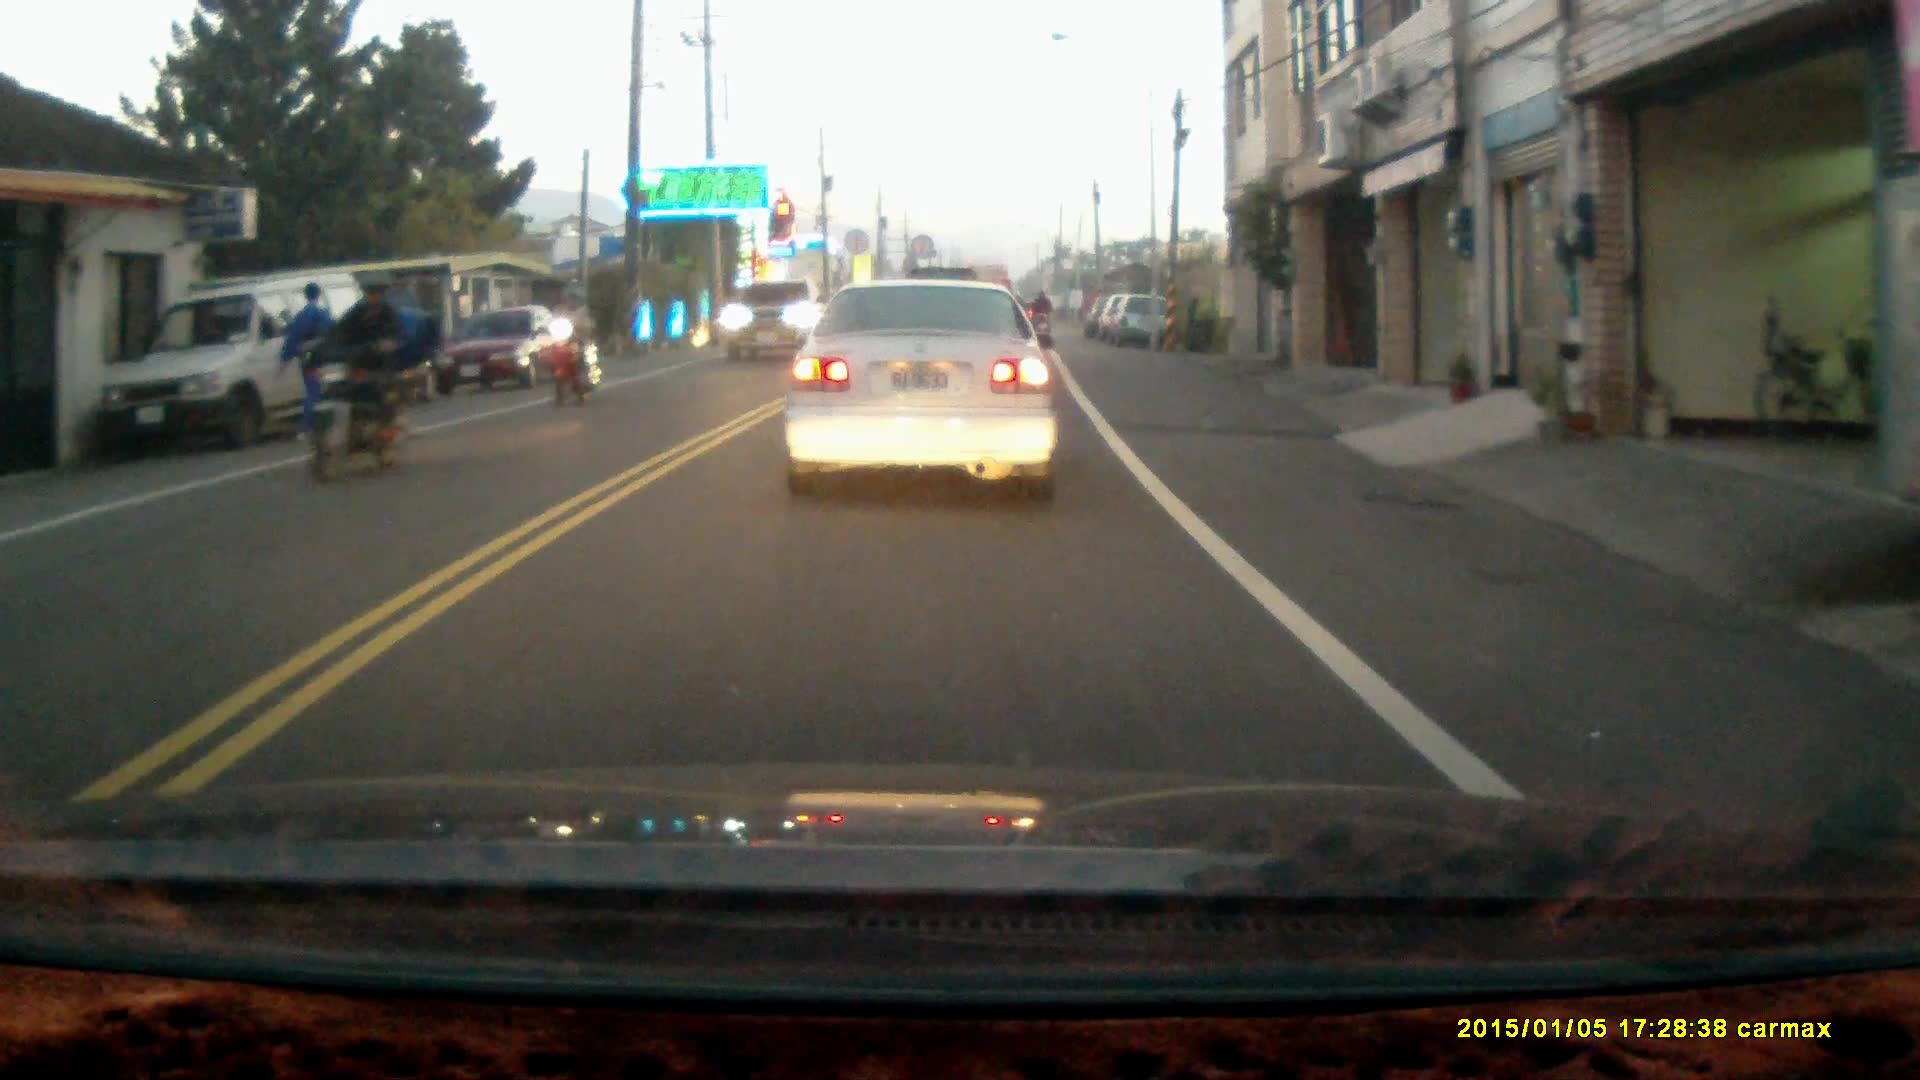pedestrian: (278, 281, 339, 435)
rider: (293, 263, 435, 487), (542, 285, 601, 407)
vehicle: (783, 278, 1061, 508), (88, 275, 367, 456), (432, 310, 588, 406), (718, 277, 821, 365), (1107, 298, 1177, 353)
